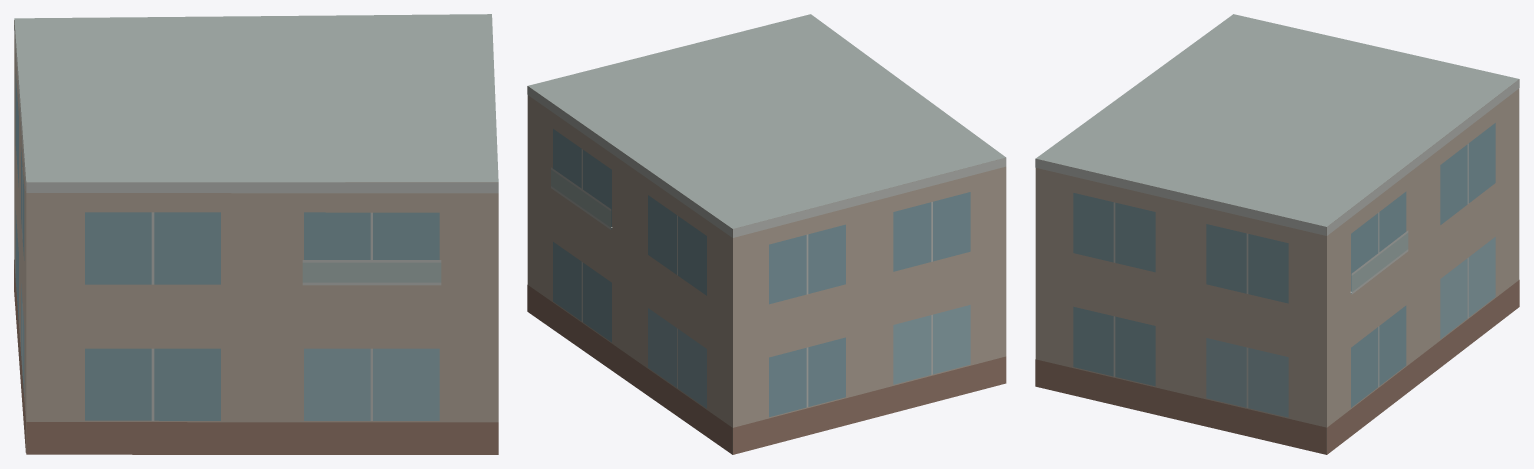
Rendered from survey-upis-32989061.glb.
The picture shows the model from 3 angles, left to right: view 1: azimuth 30°, elevation 25°; view 2: azimuth 150°, elevation 25°; view 3: azimuth 270°, elevation 25°; orthographic projection. The views are drawn at different scales.
Parts seen in each view (by area): view 1: survey-upis-32989061.tmp; view 2: survey-upis-32989061.tmp; view 3: survey-upis-32989061.tmp.
Part boxes in pixels (box(x1,y1,x2,y2)): survey-upis-32989061.tmp: box(14, 14, 498, 454); survey-upis-32989061.tmp: box(527, 14, 1006, 454); survey-upis-32989061.tmp: box(1035, 14, 1519, 454).
Size of the model in its own units: 12.23 by 6.1 by 11.75.
